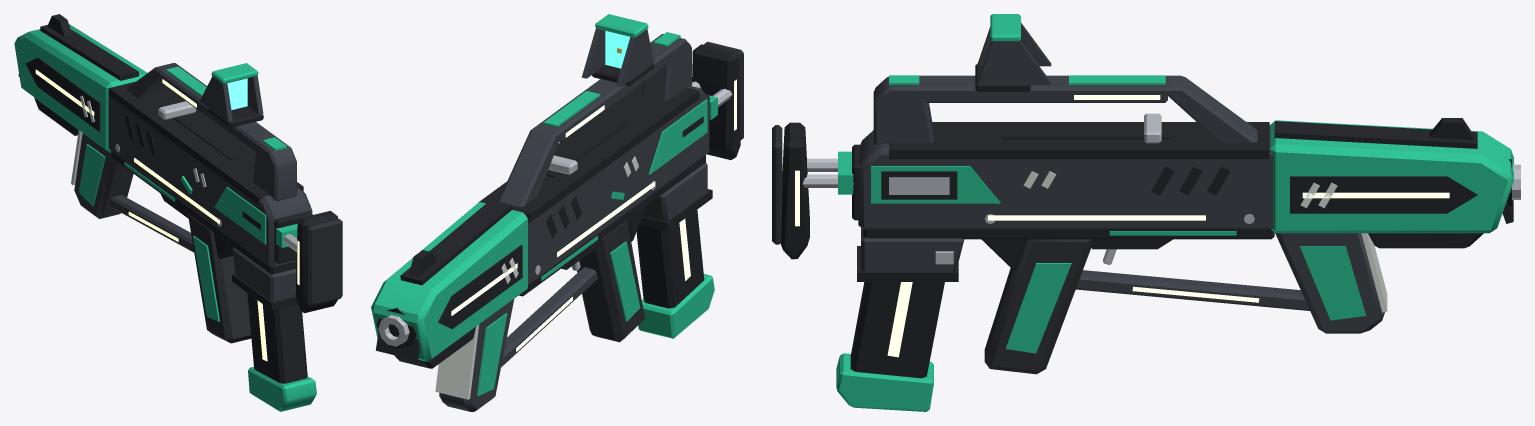
File: NovaDrift.fbx
3 renders of one model, left to right at view 1: azimuth 30°, elevation 25°; view 2: azimuth 150°, elevation 25°; view 3: azimuth 270°, elevation 25°, orthographic. The views are drawn at different scales.
Parts seen in each view (by area): view 1: Body, Nose, Brow, Mag, Grip, ButtPad, Foregrip, BridgeRear, MagPlate, NoseCut, Magwell, NoseSpine (+25 smaller); view 2: Nose, Body, Brow, Mag, Grip, StockButt, BridgeFront, NoseSpine, NoseCut, MagPlate, GuardBow, BridgeBar (+26 smaller); view 3: Body, Nose, Brow, Mag, Grip, NoseCut, Foregrip, BridgeBar, GuardBow, Lower, MagPlate, BridgeRear (+24 smaller).
Part boxes in pixels (bbox=[...]): Body: bbox=[108, 91, 312, 268]; Nose: bbox=[14, 24, 147, 152]; Brow: bbox=[109, 81, 303, 204]; Mag: bbox=[247, 293, 307, 383]; Grip: bbox=[188, 214, 251, 343]; ButtPad: bbox=[307, 218, 342, 305]; Foregrip: bbox=[74, 133, 133, 218]; BridgeRear: bbox=[253, 138, 296, 200]; MagPlate: bbox=[248, 366, 316, 411]; NoseCut: bbox=[25, 57, 100, 131]; Magwell: bbox=[232, 247, 296, 301]; NoseSpine: bbox=[40, 25, 138, 80]; Nose: bbox=[371, 202, 527, 361]; Body: bbox=[528, 86, 709, 284]; Brow: bbox=[478, 82, 699, 222]; Mag: bbox=[636, 210, 704, 308]; Grip: bbox=[577, 220, 644, 342]; StockButt: bbox=[692, 44, 740, 159]; BridgeFront: bbox=[499, 122, 563, 207]; NoseSpine: bbox=[400, 200, 512, 285]; NoseCut: bbox=[438, 244, 522, 328]; MagPlate: bbox=[638, 274, 714, 338]; GuardBow: bbox=[501, 267, 597, 367]; BridgeBar: bbox=[542, 42, 673, 142]; Body: bbox=[858, 125, 1272, 229]; Nose: bbox=[1269, 120, 1513, 233]; Brow: bbox=[889, 122, 1269, 159]; Mag: bbox=[850, 282, 944, 378]; Grip: bbox=[984, 239, 1092, 374]; NoseCut: bbox=[1290, 176, 1477, 213]; Foregrip: bbox=[1275, 233, 1384, 333]; BridgeBar: bbox=[917, 75, 1167, 102]; GuardBow: bbox=[1076, 270, 1309, 310]; Lower: bbox=[863, 229, 1274, 239]; MagPlate: bbox=[836, 353, 933, 411]; BridgeRear: bbox=[873, 76, 933, 145].
Bounding box in the file's own units: 0.29 × 1.65 × 2.95.
